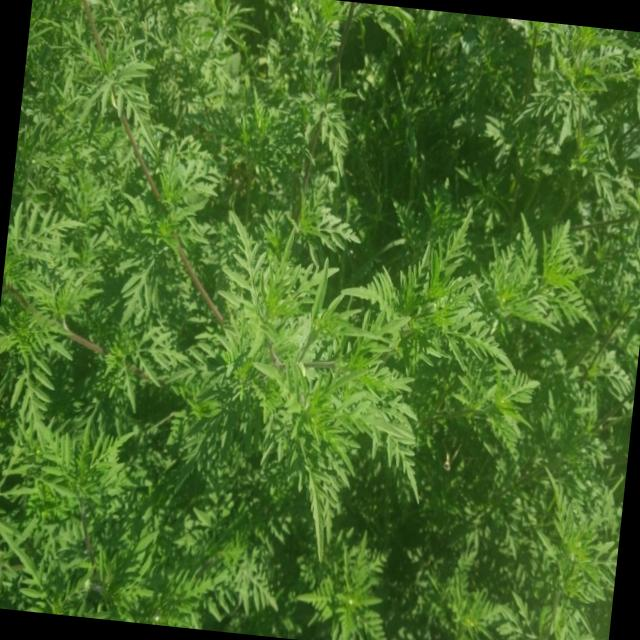ambrosia: (0, 381, 281, 635), (176, 220, 407, 513), (430, 200, 590, 449), (460, 14, 640, 190), (481, 475, 624, 640)
